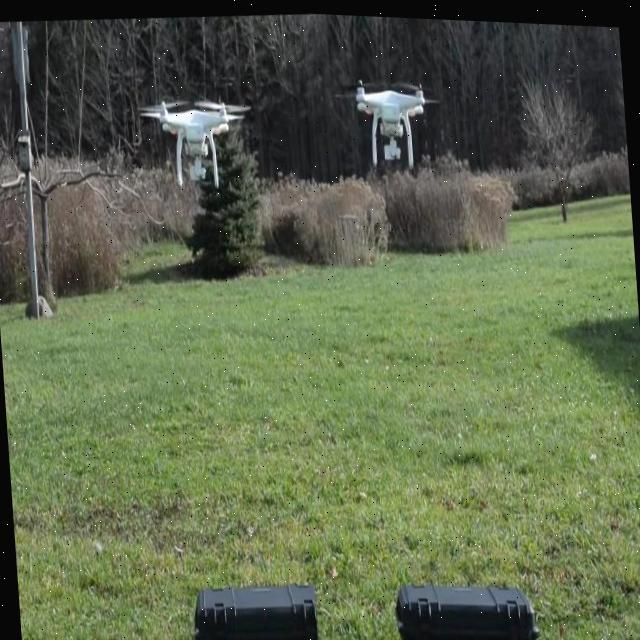drone: (140, 86, 252, 190), (349, 67, 430, 168)
